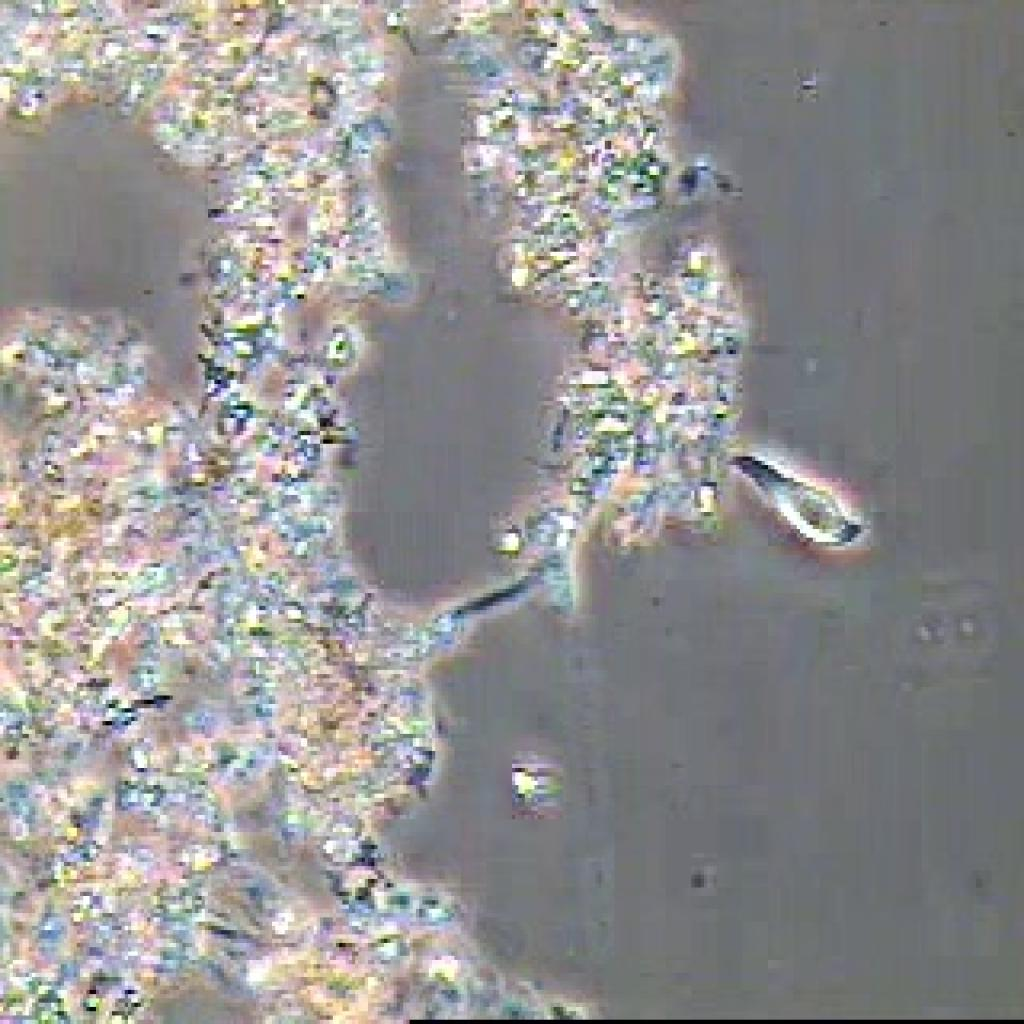Pristina: (718, 442, 872, 565)
